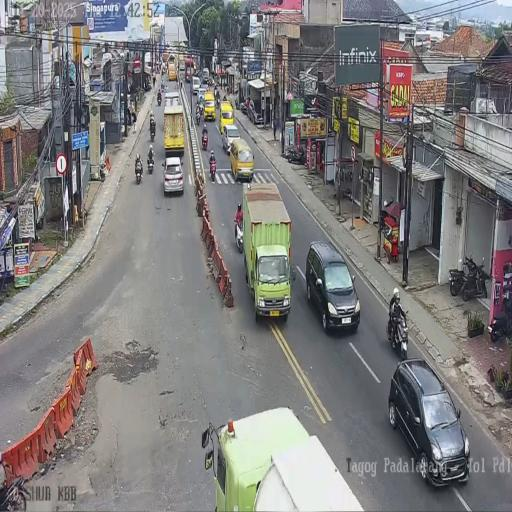3: (244, 183, 290, 317), (163, 97, 184, 158), (185, 56, 194, 82), (168, 58, 177, 81), (144, 51, 152, 74), (163, 51, 169, 63)
car: (386, 359, 470, 486), (308, 240, 361, 332), (162, 155, 184, 196), (222, 124, 240, 155), (246, 98, 263, 124), (220, 102, 234, 130), (204, 92, 216, 122), (192, 76, 201, 95), (202, 67, 210, 81), (179, 58, 185, 72)
truck: (448, 252, 488, 302), (489, 287, 511, 342), (388, 305, 410, 359), (285, 141, 306, 165), (134, 159, 142, 183), (209, 158, 216, 182), (147, 152, 154, 174), (240, 99, 249, 116), (149, 118, 156, 139), (201, 130, 208, 150), (196, 106, 202, 125), (132, 107, 138, 125), (144, 80, 151, 92), (157, 90, 162, 105), (176, 74, 180, 88), (152, 74, 156, 88), (216, 95, 220, 108), (161, 83, 166, 93)
